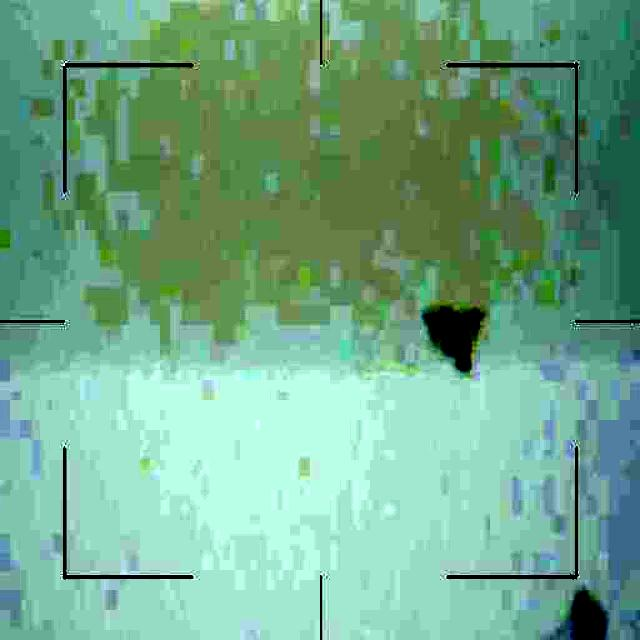bird: (418, 298, 484, 375)
